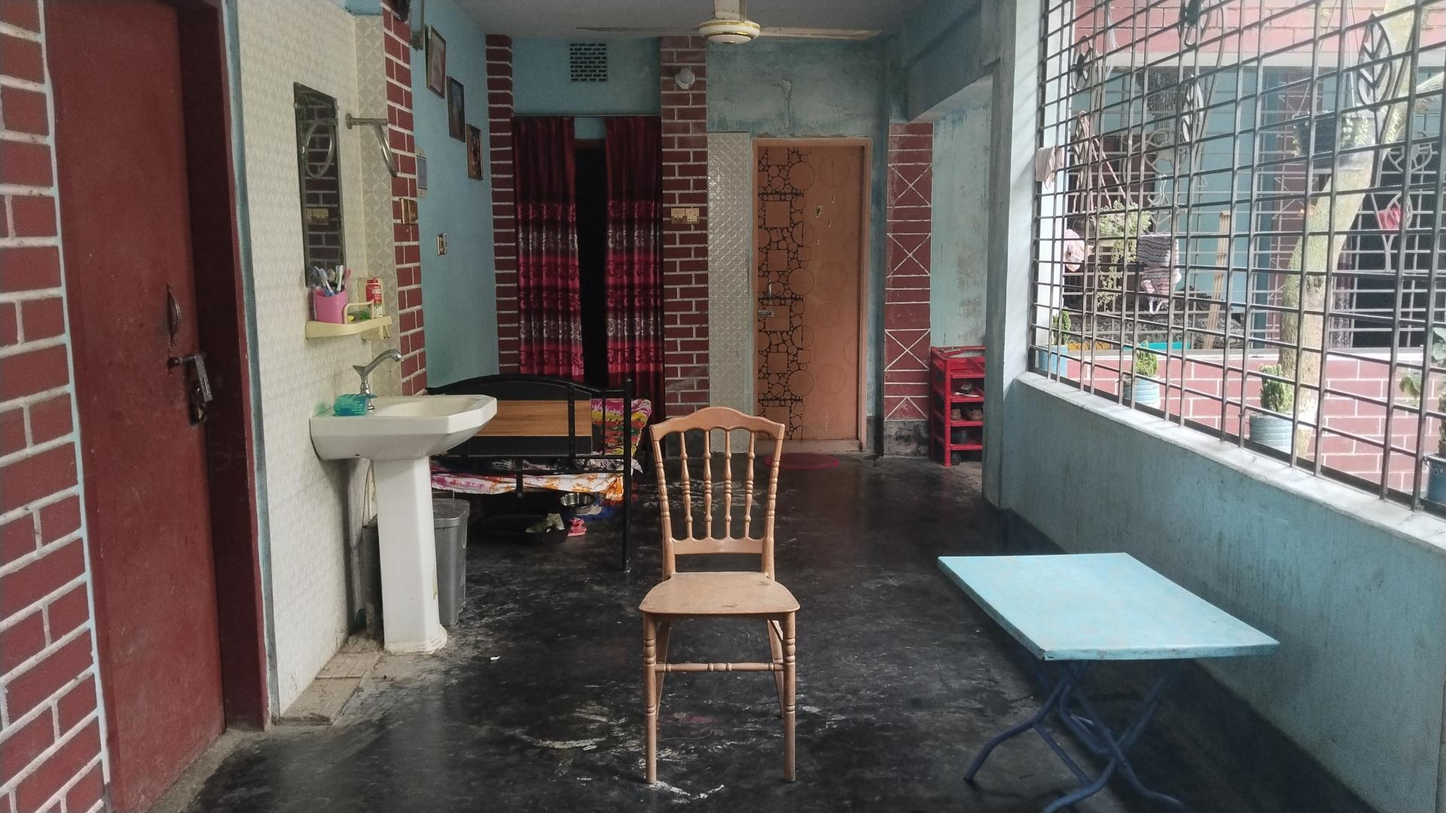Chair: (647, 406, 804, 791)
Door: (745, 144, 868, 448)
Table: (943, 551, 1277, 811)
